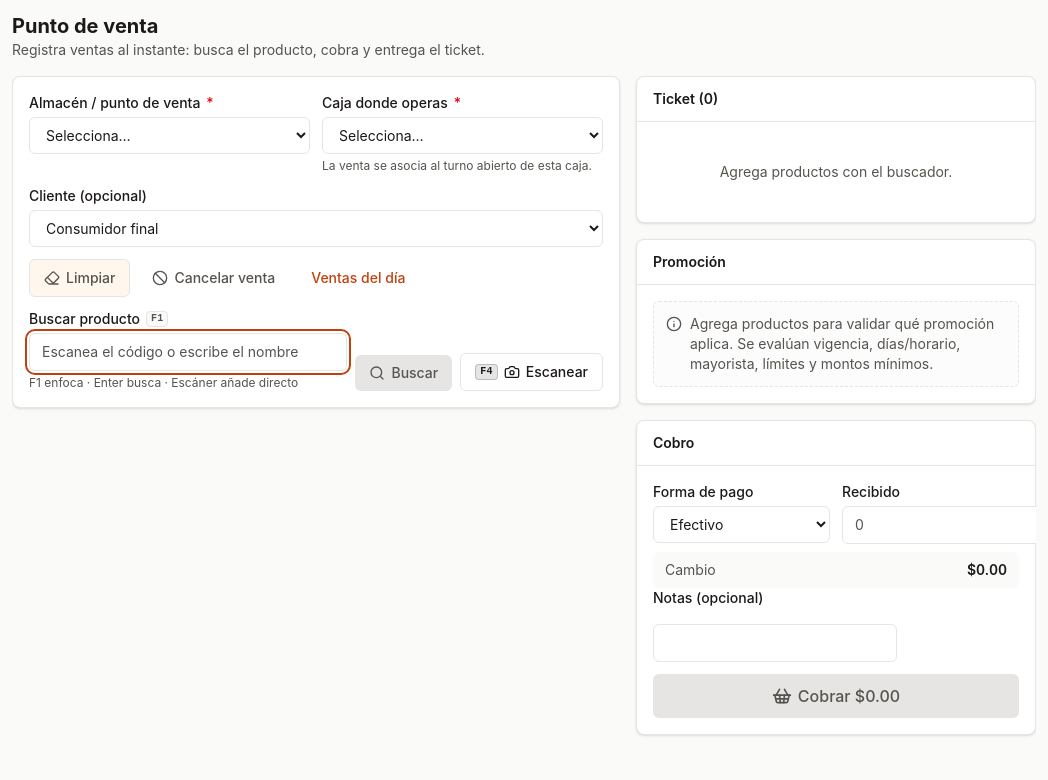
Test: PosPage › busca un producto por nombre y muestra el resultado
The width and height of the screenshot is (1048, 780).
Type "Martillo" into the field labelled "Buscar producto" at (188, 352), box 29,333 -> 347,371
Then press Enter
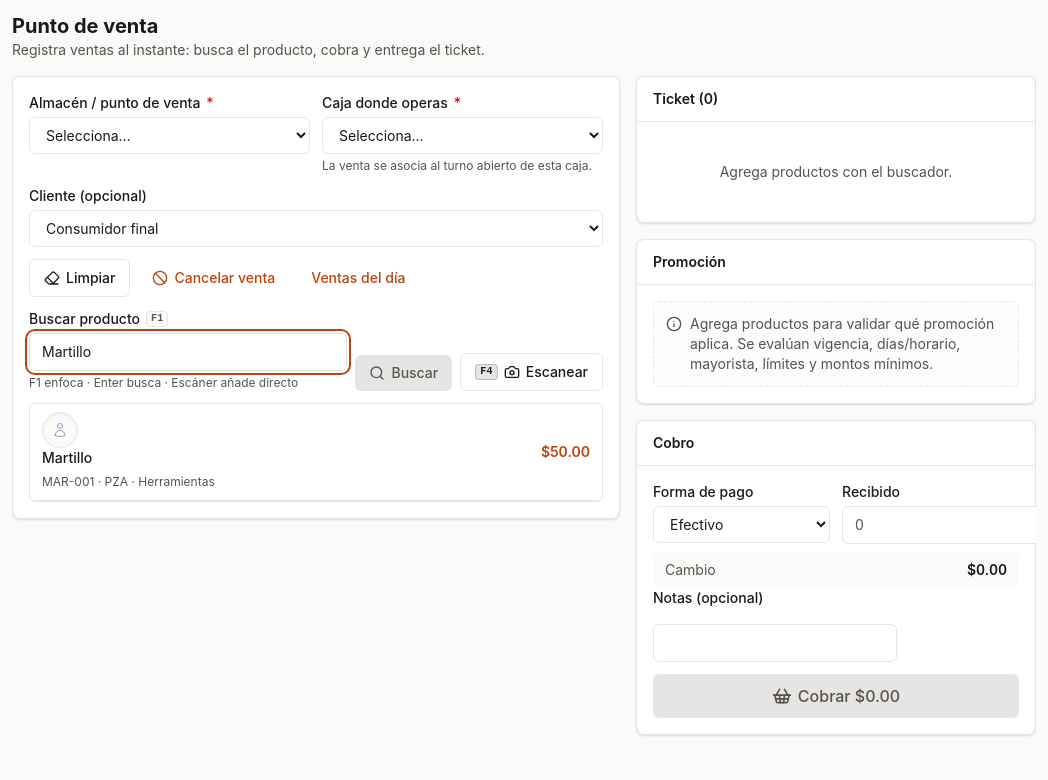
Result: the list named "Resultados de búsqueda" is shown at 29,403 -> 603,502
Result: the text "Martillo" is shown at 42,449 -> 92,466
